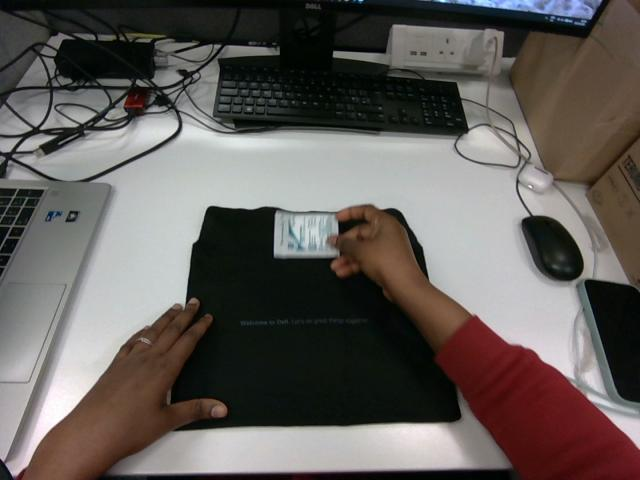gauze: (274, 210, 338, 257)
